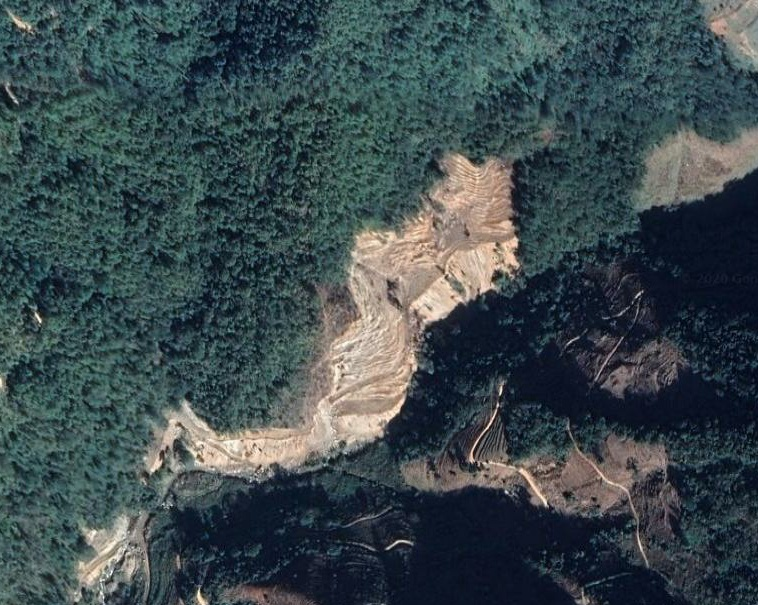slope: (135, 150, 521, 479), (641, 126, 757, 210)
